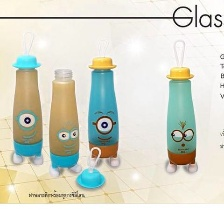bottle: (162, 64, 201, 168), (85, 54, 120, 159), (10, 53, 45, 157), (48, 65, 82, 171)
